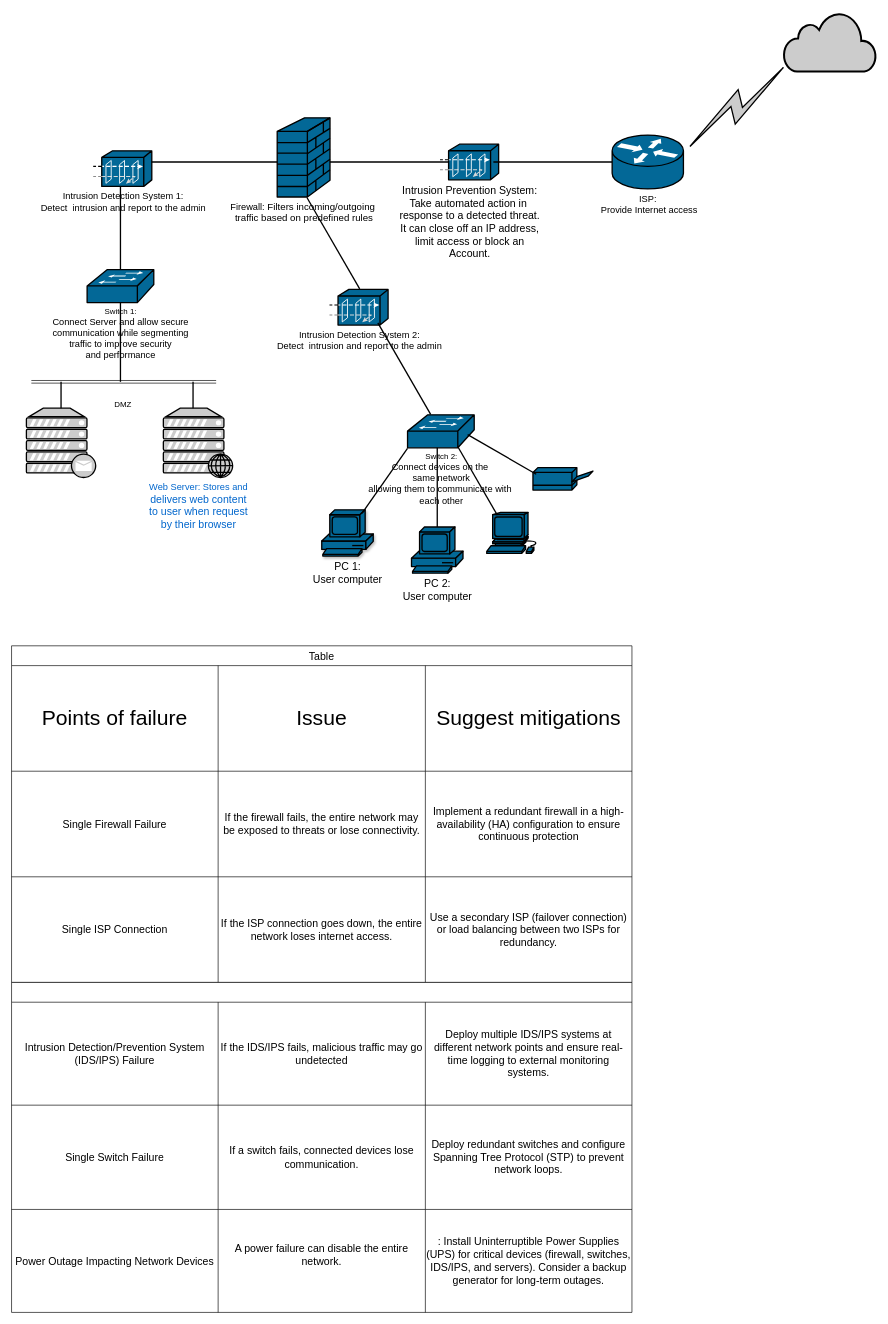
This 888x1324 diagram has some shape labels left out. Each missing label, with the centre of its shape:
"Internnet" belongs at pixel 829 41.
"Mail Server: Handles the sending, receiving, and storage of email messages" belongs at pixel 60 442.
"PC 3: User computer" belongs at pixel 514 533.
"Printer Station: Share network resource" belongs at pixel 562 478.
